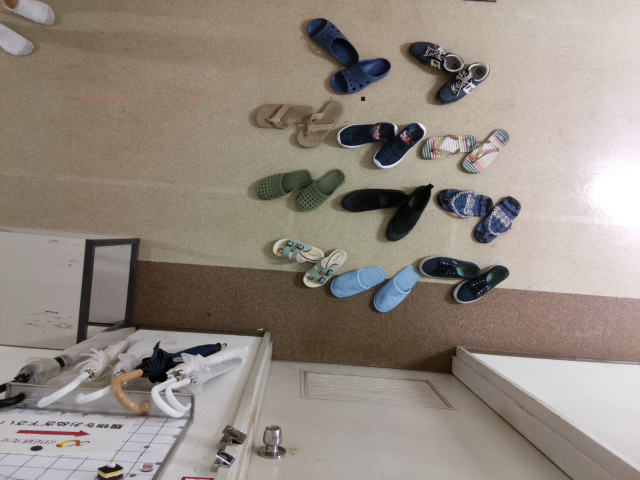Copy of Copy of Copy of Copy of Copy of Copy of Copy of Copy of Copy of Copy of: (383, 182, 435, 244), (292, 94, 343, 153), (302, 15, 358, 66), (401, 39, 464, 80), (332, 117, 404, 152), (412, 128, 484, 162), (246, 98, 318, 132), (292, 169, 345, 214), (1, 21, 37, 66), (1, 1, 58, 28)
Copy of Copy of Copy of Copy of Copy of Copy of Copy of Copy of Copy of shoe: (326, 53, 395, 95), (243, 165, 315, 200)
Copy of Copy of Copy of Copy of Copy of Copy of Copy of Copy of shoe: (434, 56, 491, 106), (338, 183, 409, 218)
Copy of Copy of Copy of Copy of Copy of Copy of Copy of shoe: (458, 123, 513, 180), (436, 185, 494, 221)
Copy of Copy of Copy of Copy of Copy of Copy of shoe: (468, 191, 523, 248)
Copy of Copy of Copy of Copy of Copy of shoe: (414, 252, 484, 288)
Copy of Copy of Copy of Copy of shoe: (450, 261, 512, 309)
Copy of Copy of Copy of shoe: (369, 261, 424, 317)
Copy of Copy of shoe: (329, 262, 389, 302)
Copy of shoe: (297, 245, 350, 290)
shoe: (265, 234, 325, 267)
